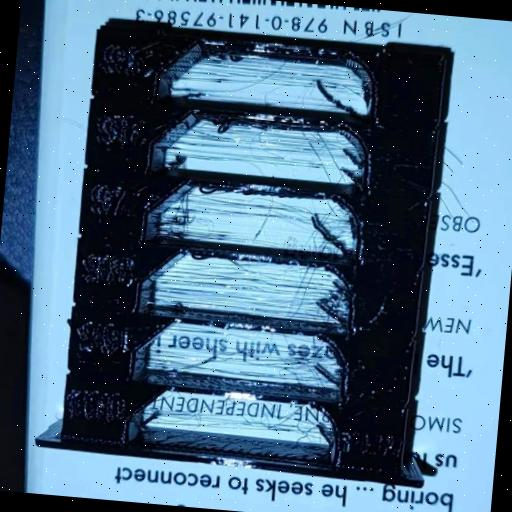stringing: (126, 381, 348, 471), (147, 110, 373, 192), (141, 182, 365, 262), (129, 315, 352, 395), (135, 244, 358, 322), (154, 40, 376, 116)
